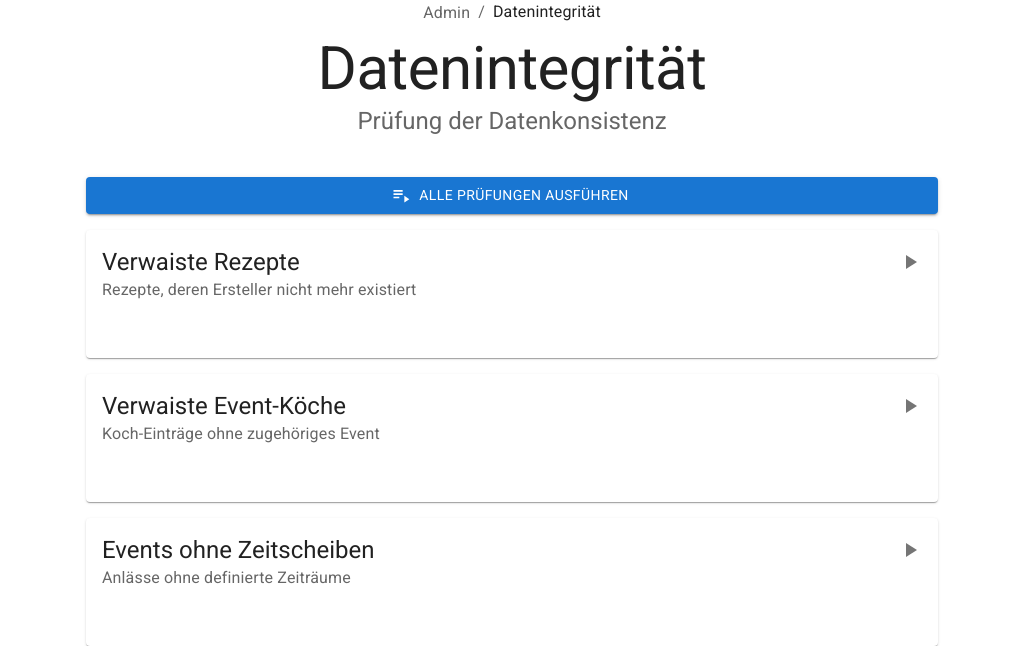
Test: DataIntegrityPage — Events ohne Zeitscheiben › zeigt zu jedem Anlass den Inhalt an
Click the button named "Events ohne Zeitscheiben ausführen": (910, 550) [890,530,930,570]
(page scrolled)
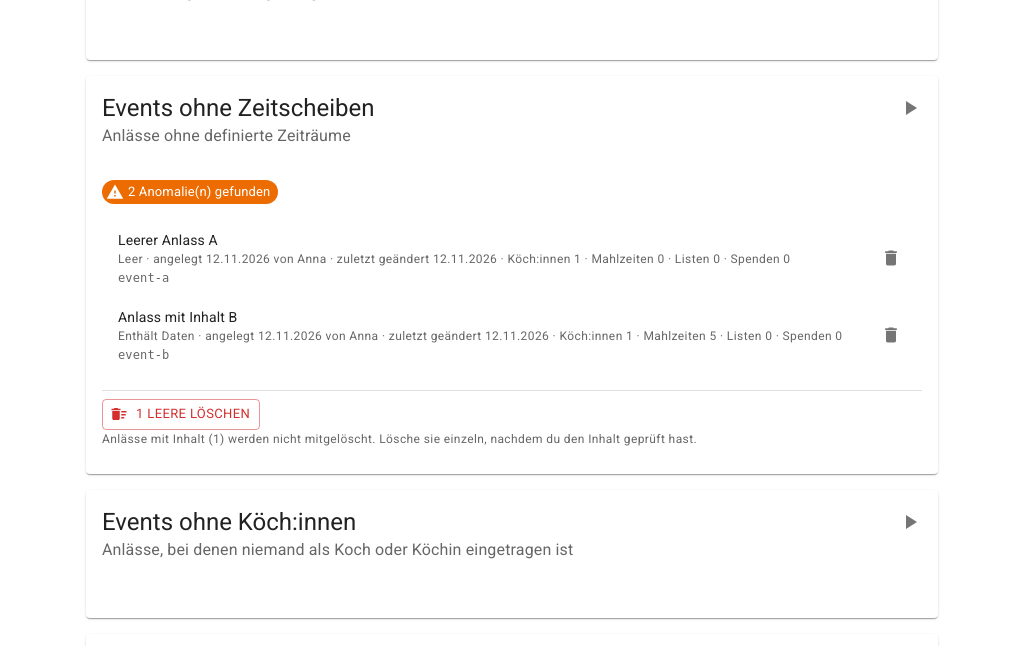
expect the text "Anlass mit Inhalt B" is shown: met, box [118,309,237,325]
expect the text "Leer · angelegt 12.11.2026 von Anna" is shown: met, box [118,252,790,266]
